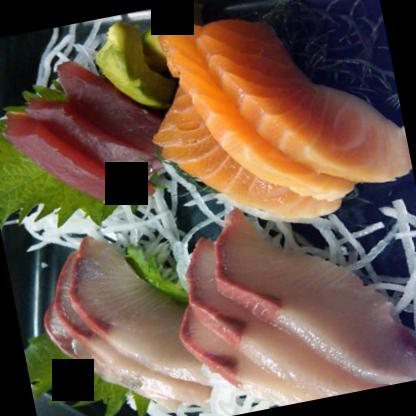salmon: (133, 0, 415, 241)
